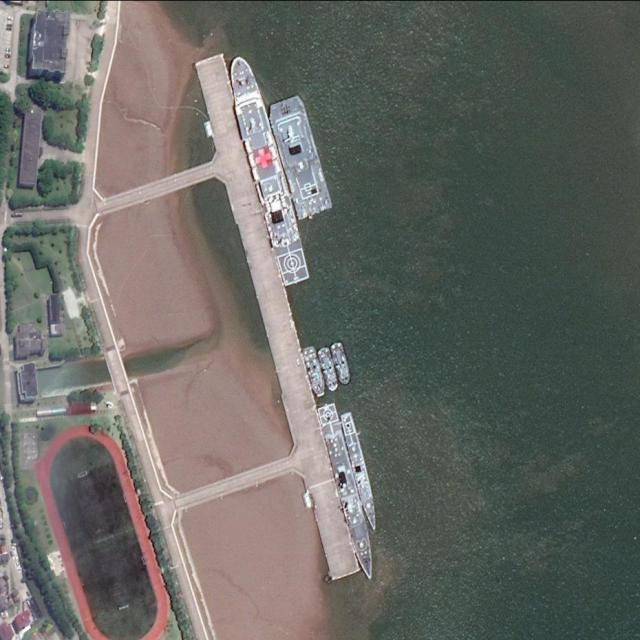Auxiliary Ships: (338, 411, 381, 532)
Frigate: (316, 403, 382, 584)
Other Warship: (221, 54, 310, 287), (266, 94, 335, 221), (301, 345, 328, 398), (317, 347, 341, 392), (330, 341, 354, 385)
